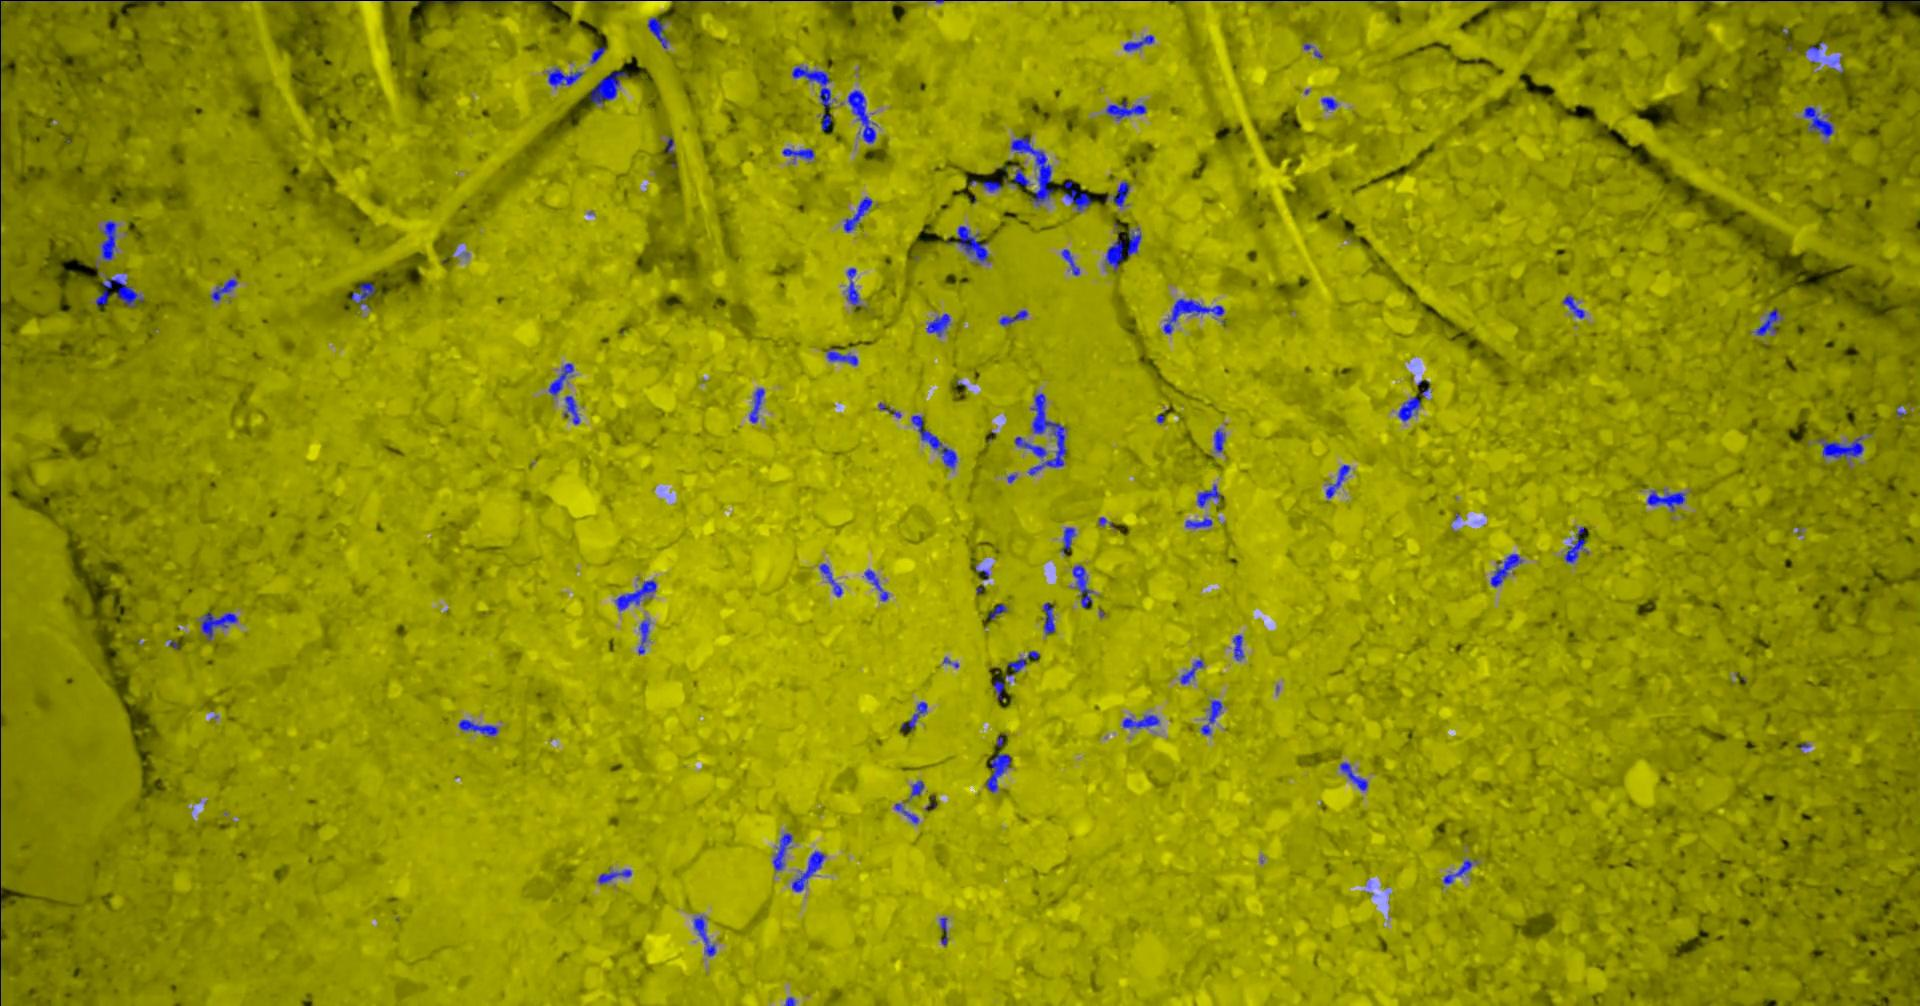ant: (1027, 392, 1065, 475), (1010, 136, 1053, 205), (791, 66, 830, 130), (910, 415, 956, 467), (1163, 298, 1223, 333), (1105, 227, 1140, 271), (847, 89, 875, 144), (95, 277, 143, 307), (946, 225, 987, 260), (791, 850, 824, 890), (589, 71, 629, 104), (615, 580, 657, 610), (1490, 553, 1523, 586), (843, 196, 872, 232), (201, 611, 237, 640), (1818, 436, 1863, 457), (985, 753, 1010, 793), (1803, 105, 1832, 137), (693, 915, 715, 956), (1324, 464, 1349, 498), (1564, 527, 1589, 561), (1063, 180, 1091, 210), (1338, 762, 1368, 790), (1646, 490, 1685, 511), (1072, 565, 1091, 607), (1443, 859, 1476, 883), (1105, 100, 1145, 119), (549, 363, 573, 395), (900, 701, 927, 729), (1200, 700, 1222, 734), (863, 569, 888, 600), (772, 832, 791, 870), (819, 563, 841, 596), (1015, 436, 1046, 457), (1007, 650, 1039, 672), (648, 17, 668, 48), (547, 69, 583, 86), (458, 719, 497, 735), (1755, 309, 1778, 335), (100, 220, 116, 259), (924, 312, 949, 337), (1178, 659, 1203, 683), (1196, 484, 1222, 507), (210, 279, 237, 300), (748, 387, 764, 422), (350, 282, 375, 305), (1397, 396, 1420, 420), (825, 348, 857, 365), (1123, 714, 1159, 728), (846, 267, 858, 306), (1562, 295, 1583, 318), (894, 803, 918, 823), (563, 395, 579, 424), (597, 869, 631, 883), (1062, 249, 1079, 276), (1007, 164, 1029, 185), (1123, 34, 1153, 50), (999, 309, 1027, 325), (1112, 180, 1129, 206), (637, 619, 649, 653), (1062, 527, 1076, 554), (1043, 602, 1054, 634), (1232, 634, 1244, 661), (782, 149, 814, 159), (589, 44, 606, 64), (1185, 517, 1211, 528), (988, 603, 1006, 619), (1213, 429, 1224, 452), (938, 917, 947, 945), (992, 680, 1004, 699), (909, 780, 923, 796), (1321, 97, 1336, 109), (982, 180, 1001, 191)
